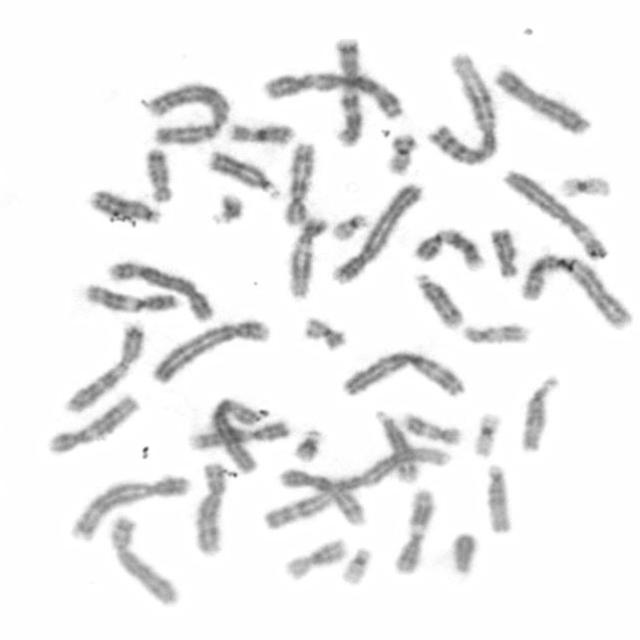A1: (260, 444, 456, 531), (426, 55, 499, 167)
A2: (514, 245, 632, 333), (143, 80, 233, 146)
A3: (262, 70, 404, 122), (338, 350, 466, 402)
B4: (329, 180, 423, 287), (147, 315, 273, 389)
B5: (68, 474, 190, 544), (103, 258, 217, 324)
C10: (277, 464, 370, 528), (280, 140, 319, 227)
C11: (388, 483, 436, 578), (80, 280, 184, 315)
C12: (43, 390, 144, 454), (283, 216, 325, 302)
C6: (500, 169, 607, 259), (208, 396, 262, 475)
C7: (59, 321, 149, 418), (331, 28, 366, 152)
C8: (110, 516, 182, 606), (190, 458, 230, 560)
C9: (185, 418, 294, 453), (408, 226, 486, 272)
D13: (204, 148, 284, 196), (86, 188, 164, 225)
D14: (372, 403, 418, 486), (413, 273, 468, 332)
D15: (516, 374, 560, 452), (482, 461, 514, 537)
E16: (278, 535, 349, 585), (224, 120, 298, 146)
E17: (396, 409, 464, 446), (453, 319, 535, 346)
E18: (142, 145, 178, 204), (486, 226, 520, 280)
F19: (554, 174, 612, 200), (470, 409, 500, 457)
F20: (298, 316, 348, 352), (384, 131, 418, 175)
G21: (286, 424, 325, 466), (208, 195, 245, 226)
G22: (338, 544, 374, 588), (330, 211, 367, 243)
X: (492, 63, 595, 138)
Y: (447, 531, 478, 577)
